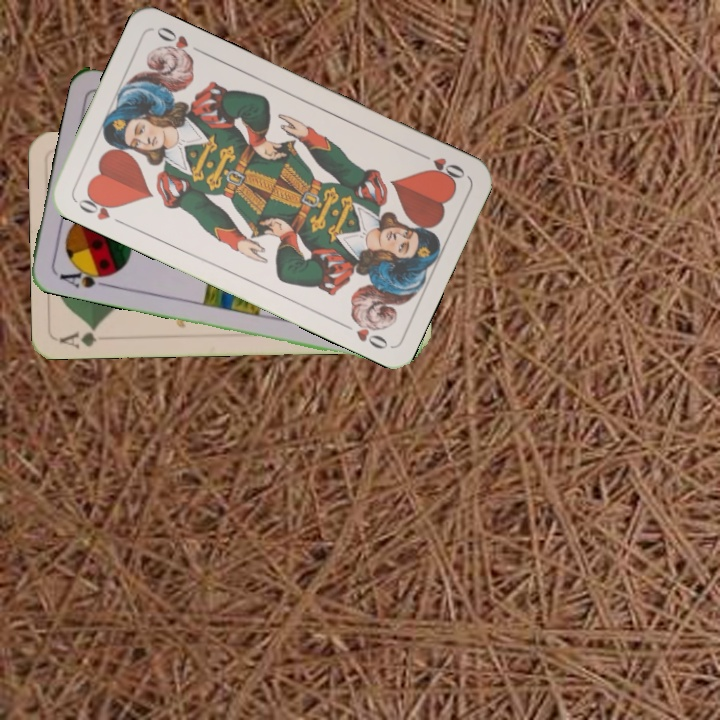GA: (56, 323, 100, 350)
HO: (71, 189, 127, 227), (413, 148, 468, 185)
SA: (55, 262, 114, 291)
